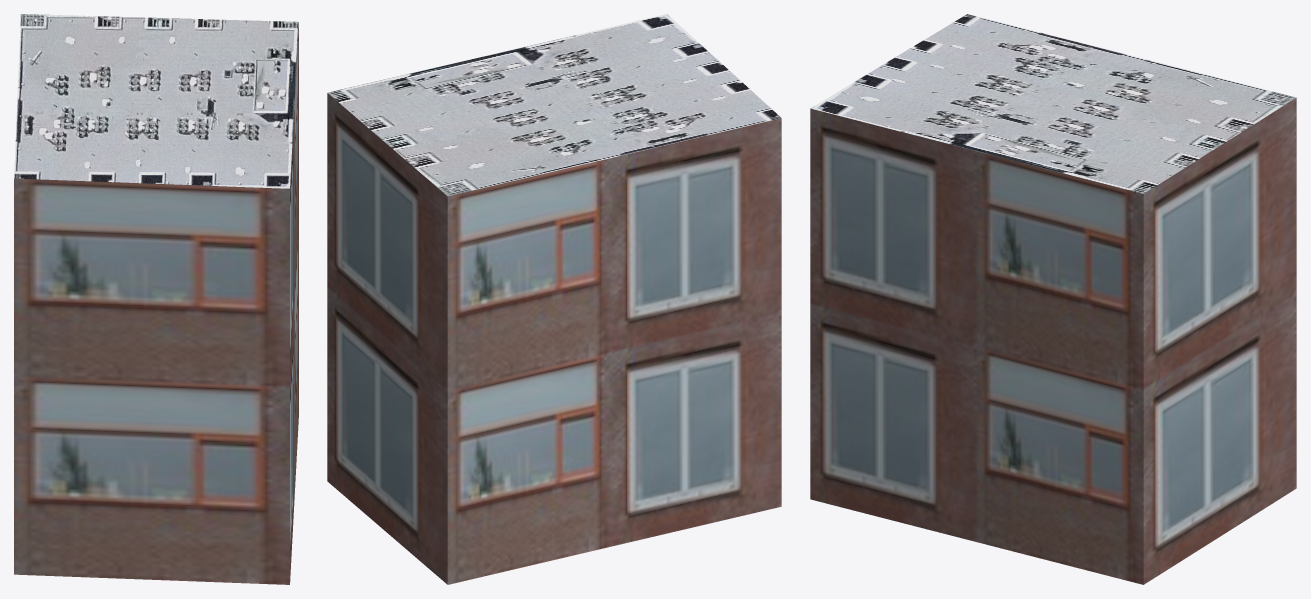
Rendered from ResTex__2358.fbx.
The picture shows the model from 3 angles, left to right: view 1: azimuth 30°, elevation 25°; view 2: azimuth 150°, elevation 25°; view 3: azimuth 270°, elevation 25°; orthographic projection.
Parts seen in each view (by area): view 1: CityEngineMaterial_19_m, CityEngineMaterial_15_m; view 2: CityEngineMaterial_19_m, CityEngineMaterial_15_m; view 3: CityEngineMaterial_19_m, CityEngineMaterial_15_m.
Boxes of the visible parts, box(x1,y1,x2,y2) form: CityEngineMaterial_19_m: box(14, 22, 298, 584); CityEngineMaterial_15_m: box(14, 14, 298, 188); CityEngineMaterial_19_m: box(327, 93, 781, 584); CityEngineMaterial_15_m: box(327, 14, 780, 196); CityEngineMaterial_19_m: box(810, 98, 1296, 584); CityEngineMaterial_15_m: box(810, 14, 1296, 193).
Bounding box in the file's own units: 5.93 × 6 × 6.77.
Materials: 2 (2 with a texture image).
